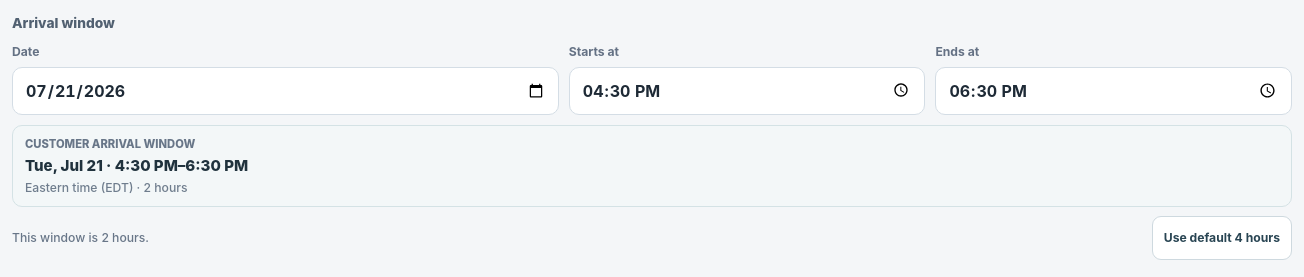
Scenario: ArrivalWindowField › preserves a legacy custom duration and offers the owner-configured default reset
Expected: the text "This window is 2 hours." is shown, [12,229,149,247]
Click the button "Use default 4 hours".
click(1222, 238)  # box [1152,216,1292,260]
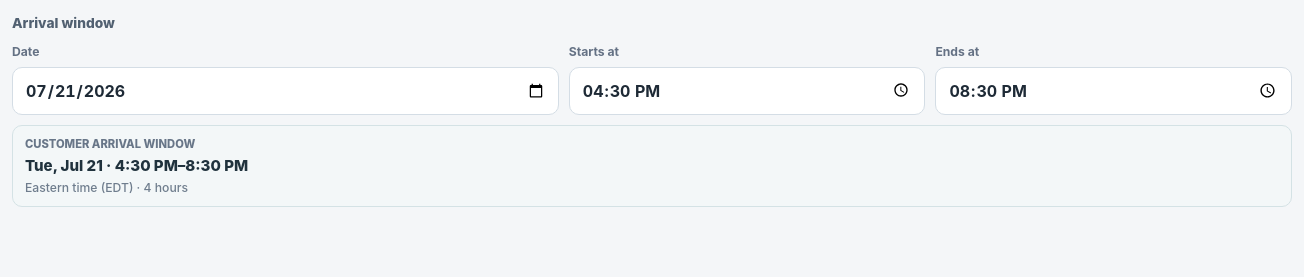
Now the text "Eastern time (EDT) · 4 hours" is shown, box [25,180,188,195]
Now the button "Use default 4 hours" is gone
